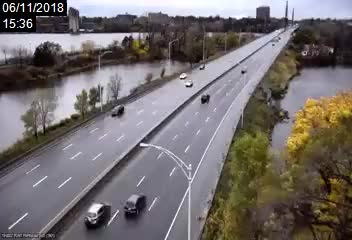personal_car: (84, 200, 109, 228), (122, 192, 145, 217), (110, 103, 124, 117), (198, 91, 211, 104), (184, 79, 194, 87), (179, 71, 186, 80)
